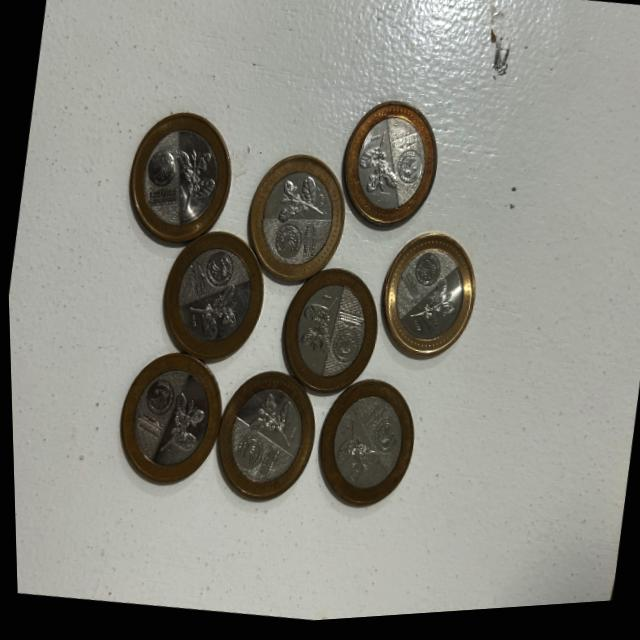20_New_Back: (147, 388, 215, 472), (268, 160, 344, 234), (396, 280, 460, 348)
